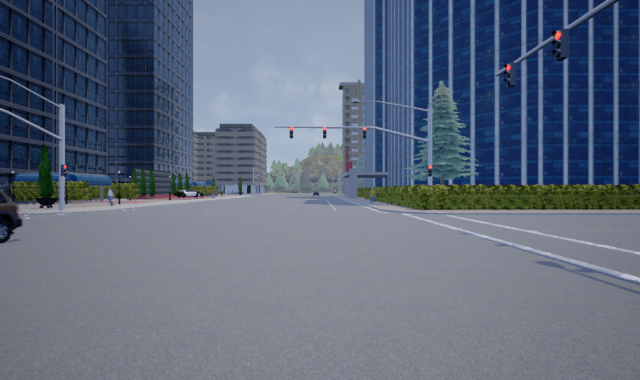pedestrian: (103, 185, 116, 206), (368, 186, 376, 204)
vehicle: (1, 178, 22, 243), (172, 190, 203, 199)
